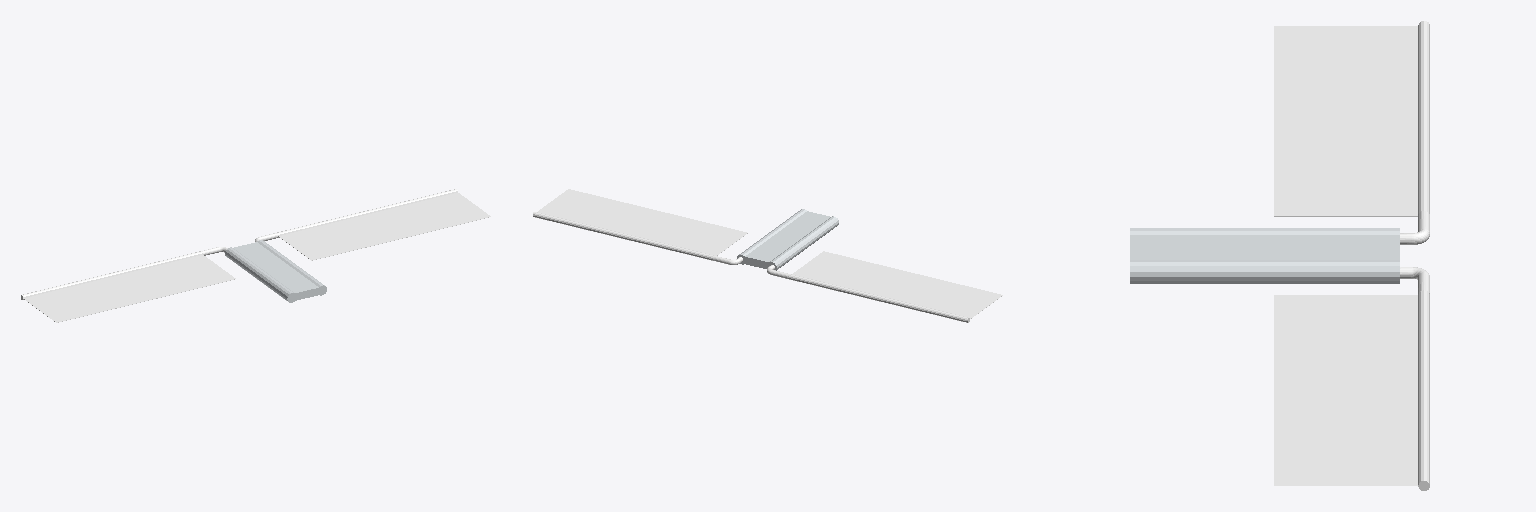
URDF robot description (URDF_Tiny):
<?xml version="1.0" encoding="utf-8"?>
<!-- This URDF was automatically created by SolidWorks to URDF Exporter! Originally created by [author] ([email redacted]) 
     Commit Version: 1.6.0-4-g7f85cfe  Build Version: 1.6.7995.38578
     For more information, please see http://wiki.ros.org/sw_urdf_exporter -->
<robot
  name="URDF_Tiny">
  <link
    name="base_link">
    <inertial>
      <origin
        xyz="2.90929190927912E-18 -0.0225 1.75308850064785E-18"
        rpy="0 0 0" />
      <mass
        value="0.00635649989496079" />
      <inertia
        ixx="1.07828542773576E-06"
        ixy="6.91754242672403E-24"
        ixz="-2.8657332950023E-25"
        iyy="1.53486567387336E-07"
        iyz="6.48370505339519E-23"
        izz="1.22051985420084E-06" />
    </inertial>
    <visual>
      <origin
        xyz="0 0 0"
        rpy="0 0 0" />
      <geometry>
        <mesh
          filename="package://URDF_Tiny/meshes/base_link.STL" />
      </geometry>
      <material
        name="">
        <color
          rgba="0.898039215686275 0.917647058823529 0.929411764705882 1" />
      </material>
    </visual>
    <collision>
      <origin
        xyz="0 0 0"
        rpy="0 0 0" />
      <geometry>
        <mesh
          filename="package://URDF_Tiny/meshes/base_link.STL" />
      </geometry>
    </collision>
  </link>
  <link
    name="RW_Flap">
    <inertial>
      <origin
        xyz="0.00333837466497408 0.00333837466497408 2.6213145100327E-20"
        rpy="0 0 0" />
      <mass
        value="3.89068170490654E-05" />
      <inertia
        ixx="6.78208726623603E-11"
        ixy="-8.49217730939301E-11"
        ixz="-1.64845713489435E-27"
        iyy="3.57554255139679E-10"
        iyz="1.22977512422724E-27"
        izz="4.05921719277506E-10" />
    </inertial>
    <visual>
      <origin
        xyz="0 0 0"
        rpy="0 0 0" />
      <geometry>
        <mesh
          filename="package://URDF_Tiny/meshes/RW_Flap.STL" />
      </geometry>
      <material
        name="">
        <color
          rgba="1 1 1 1" />
      </material>
    </visual>
    <collision>
      <origin
        xyz="0 0 0"
        rpy="0 0 0" />
      <geometry>
        <mesh
          filename="package://URDF_Tiny/meshes/RW_Flap.STL" />
      </geometry>
    </collision>
  </link>
  <joint
    name="RW_J_Flap"
    type="revolute">
    <origin
      xyz="0.00666143782776616 0 0"
      rpy="0 0 0" />
    <parent
      link="base_link" />
    <child
      link="RW_Flap" />
    <axis
      xyz="0 -1 0" />
    <limit
      lower="0"
      upper="0"
      effort="0"
      velocity="0" />
  </joint>
  <link
    name="RW_Pitch">
    <inertial>
      <origin
        xyz="0.0375 -0.00563011555355997 3.10971969344189E-20"
        rpy="0 0 0" />
      <mass
        value="0.000423935026696007" />
      <inertia
        ixx="2.65235443608576E-08"
        ixy="-2.93064684625566E-23"
        ixz="-1.65258864845697E-24"
        iyy="1.98779779728036E-07"
        iyz="-3.47087198051225E-26"
        izz="2.25182852160328E-07" />
    </inertial>
    <visual>
      <origin
        xyz="0 0 0"
        rpy="0 0 0" />
      <geometry>
        <mesh
          filename="package://URDF_Tiny/meshes/RW_Pitch.STL" />
      </geometry>
      <material
        name="">
        <color
          rgba="1 1 1 1" />
      </material>
    </visual>
    <collision>
      <origin
        xyz="0 0 0"
        rpy="0 0 0" />
      <geometry>
        <mesh
          filename="package://URDF_Tiny/meshes/RW_Pitch.STL" />
      </geometry>
    </collision>
  </link>
  <joint
    name="RW_J_Pitch"
    type="revolute">
    <origin
      xyz="0.00899999999999999 0.004 0"
      rpy="0 0 0" />
    <parent
      link="RW_Flap" />
    <child
      link="RW_Pitch" />
    <axis
      xyz="-1 0 0" />
    <limit
      lower="0"
      upper="0"
      effort="0"
      velocity="0" />
  </joint>
  <link
    name="LW_Flap">
    <inertial>
      <origin
        xyz="-0.00333837466497408 0.00333837466497408 -2.6213145100327E-20"
        rpy="0 0 0" />
      <mass
        value="3.89068170490654E-05" />
      <inertia
        ixx="6.78208726623603E-11"
        ixy="8.49217730939301E-11"
        ixz="-1.64845713489435E-27"
        iyy="3.57554255139679E-10"
        iyz="-1.22977512422724E-27"
        izz="4.05921719277506E-10" />
    </inertial>
    <visual>
      <origin
        xyz="0 0 0"
        rpy="0 0 0" />
      <geometry>
        <mesh
          filename="package://URDF_Tiny/meshes/LW_Flap.STL" />
      </geometry>
      <material
        name="">
        <color
          rgba="1 1 1 1" />
      </material>
    </visual>
    <collision>
      <origin
        xyz="0 0 0"
        rpy="0 0 0" />
      <geometry>
        <mesh
          filename="package://URDF_Tiny/meshes/LW_Flap.STL" />
      </geometry>
    </collision>
  </link>
  <joint
    name="LW_J_Flap"
    type="revolute">
    <origin
      xyz="-0.00666143782776616 0 0"
      rpy="0 0 0" />
    <parent
      link="base_link" />
    <child
      link="LW_Flap" />
    <axis
      xyz="0 -1 0" />
    <limit
      lower="0"
      upper="0"
      effort="0"
      velocity="0" />
  </joint>
  <link
    name="LW_Pitch">
    <inertial>
      <origin
        xyz="-0.0375 -0.00563011555355997 6.26802875709381E-20"
        rpy="0 0 0" />
      <mass
        value="0.000423935026696007" />
      <inertia
        ixx="2.65235443608576E-08"
        ixy="-1.09267072911845E-23"
        ixz="-1.65258864845697E-24"
        iyy="1.98779779728037E-07"
        iyz="4.05208227165849E-26"
        izz="2.25182852160328E-07" />
    </inertial>
    <visual>
      <origin
        xyz="0 0 0"
        rpy="0 0 0" />
      <geometry>
        <mesh
          filename="package://URDF_Tiny/meshes/LW_Pitch.STL" />
      </geometry>
      <material
        name="">
        <color
          rgba="1 1 1 1" />
      </material>
    </visual>
    <collision>
      <origin
        xyz="0 0 0"
        rpy="0 0 0" />
      <geometry>
        <mesh
          filename="package://URDF_Tiny/meshes/LW_Pitch.STL" />
      </geometry>
    </collision>
  </link>
  <joint
    name="LW_J_Pitch"
    type="revolute">
    <origin
      xyz="-0.00899999999999999 0.004 0"
      rpy="0 0 0" />
    <parent
      link="LW_Flap" />
    <child
      link="LW_Pitch" />
    <axis
      xyz="1 0 0" />
    <limit
      lower="0"
      upper="0"
      effort="0"
      velocity="0" />
  </joint>
</robot>

--- What the picture shows (computed from the rendered views, not written in the file) ---
Views: 3 orthographic renders of the robot side by side, from view 1: azimuth 30°, elevation 25°; view 2: azimuth 150°, elevation 25°; view 3: azimuth 270°, elevation 25°.
Model URDF_Tiny with 5 links and 4 joints (4 revolute), rooted at base_link, posed all joints at 0.
Links seen in each view (by area): view 1: LW_Pitch, RW_Pitch, base_link; view 2: LW_Pitch, RW_Pitch, base_link; view 3: RW_Pitch, LW_Pitch, base_link, LW_Flap.
Boxes of the visible links, box(x1,y1,x2,y2) form: LW_Pitch: box(21, 251, 235, 322); RW_Pitch: box(277, 189, 490, 260); base_link: box(225, 240, 326, 302); LW_Pitch: box(788, 251, 1002, 322); RW_Pitch: box(533, 189, 747, 260); base_link: box(737, 209, 838, 270); RW_Pitch: box(1274, 290, 1429, 490); LW_Pitch: box(1274, 21, 1429, 216); base_link: box(1130, 228, 1399, 283); LW_Flap: box(1400, 211, 1429, 244).
Bounding box of the posed robot: 0.1813 × 0.05 × 0.0039 m (x, y, z).
5 mesh visuals loaded from 5 distinct referenced files (5 binary STL).